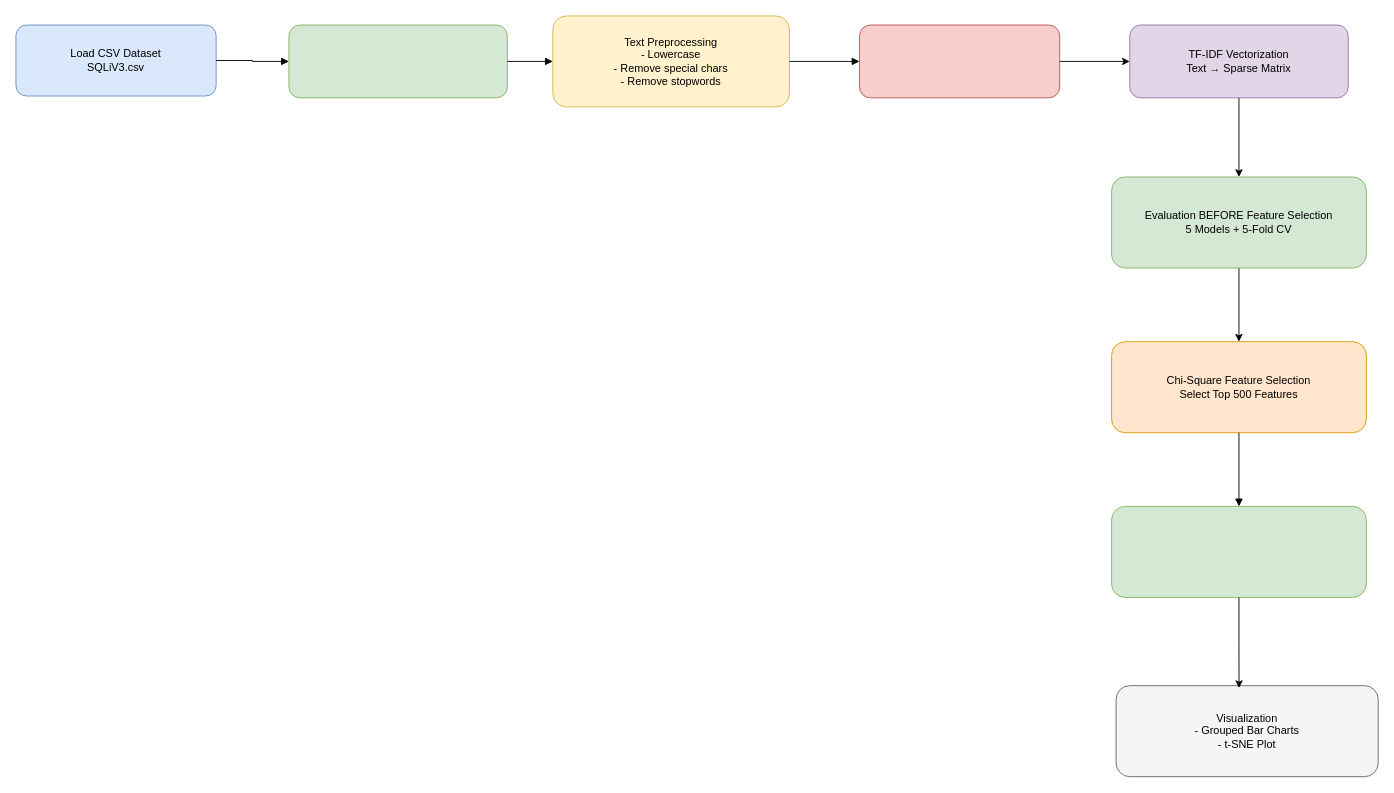
Image size: 1394x793. Some labels were removed from this diagram. The box of each missing label's shape, as (x1, y1, x2, y2) in pixels:
Data Cleaning - Drop NaN - Label 0/1: (288, 24, 507, 98)
Evaluation AFTER Feature Selection 5 Models + 5-Fold CV: (1111, 506, 1366, 597)
Train/Test Split Stratified 80/20: (859, 24, 1060, 98)
